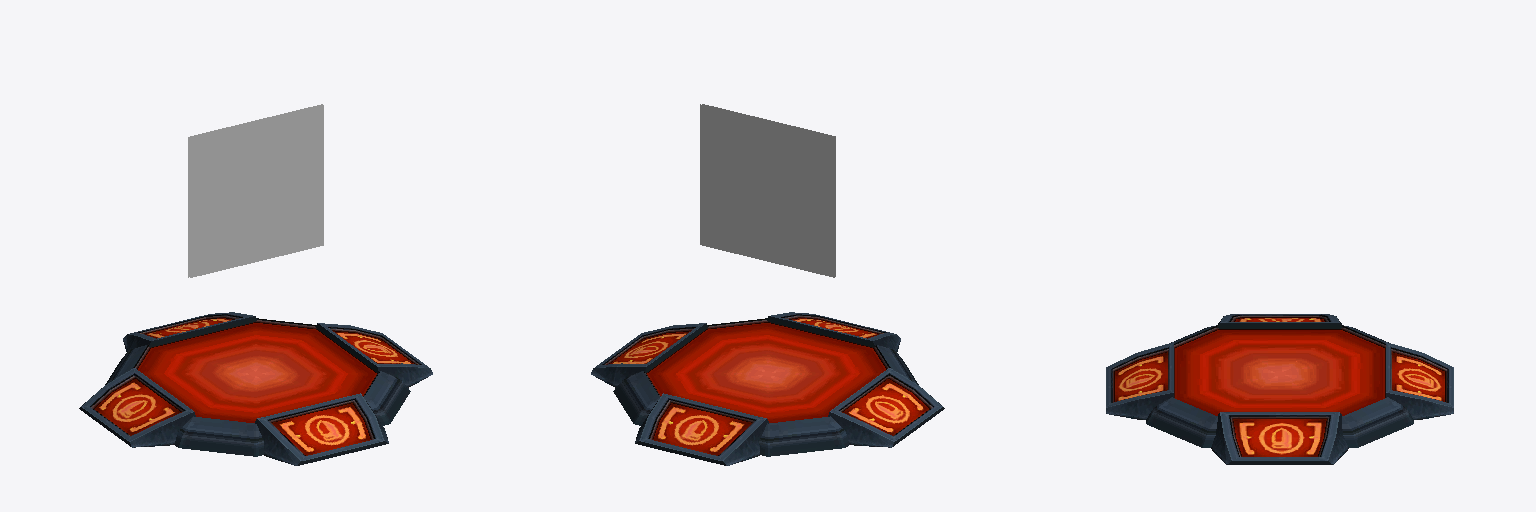
3 renders of one model, left to right at view 1: azimuth 30°, elevation 25°; view 2: azimuth 150°, elevation 25°; view 3: azimuth 270°, elevation 25°, orthographic.
Parts seen in each view (by area): view 1: Texture_635, Texture_636; view 2: Texture_635, Texture_636; view 3: Texture_635.
Boxes of the visible parts, x1,y1,x2,y2 form: Texture_635: [79, 312, 432, 465]; Texture_636: [188, 104, 323, 277]; Texture_635: [591, 312, 944, 465]; Texture_636: [700, 104, 835, 277]; Texture_635: [1106, 314, 1453, 464].
Bounding box in the file's own units: 27.97 × 24 × 27.97.
Materials: 2 (1 with a texture image).